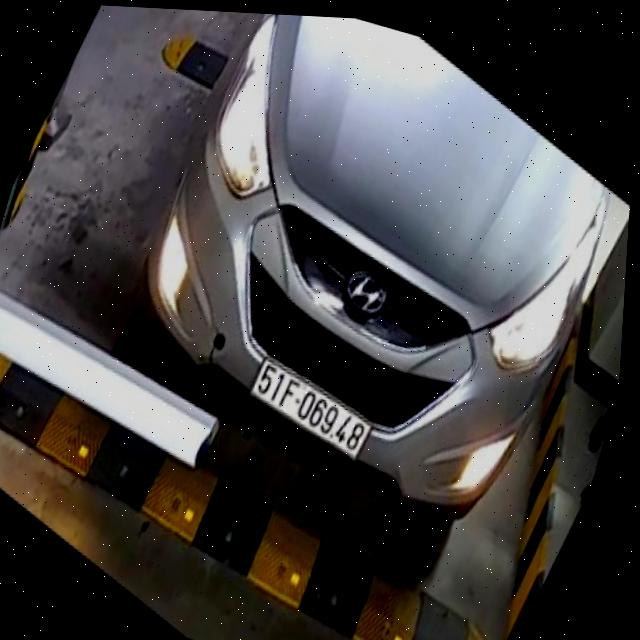plate: (123, 13, 628, 532)
